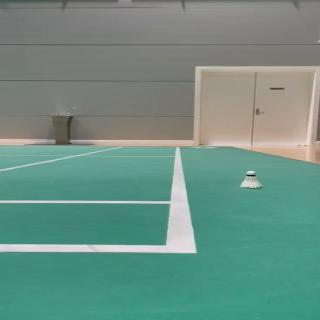Shuttle: (239, 171, 264, 188)
